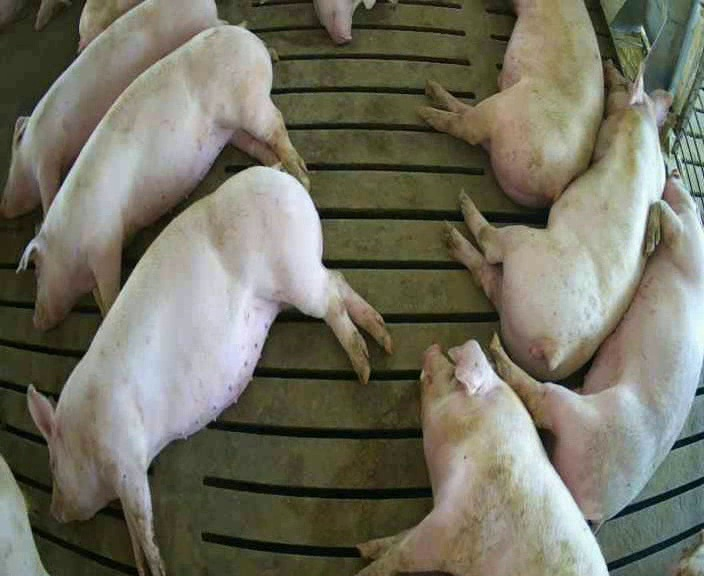pig: (29, 163, 389, 573), (20, 21, 308, 329), (490, 175, 703, 534), (448, 59, 673, 378), (359, 340, 606, 574), (0, 1, 229, 217), (418, 2, 603, 205)
